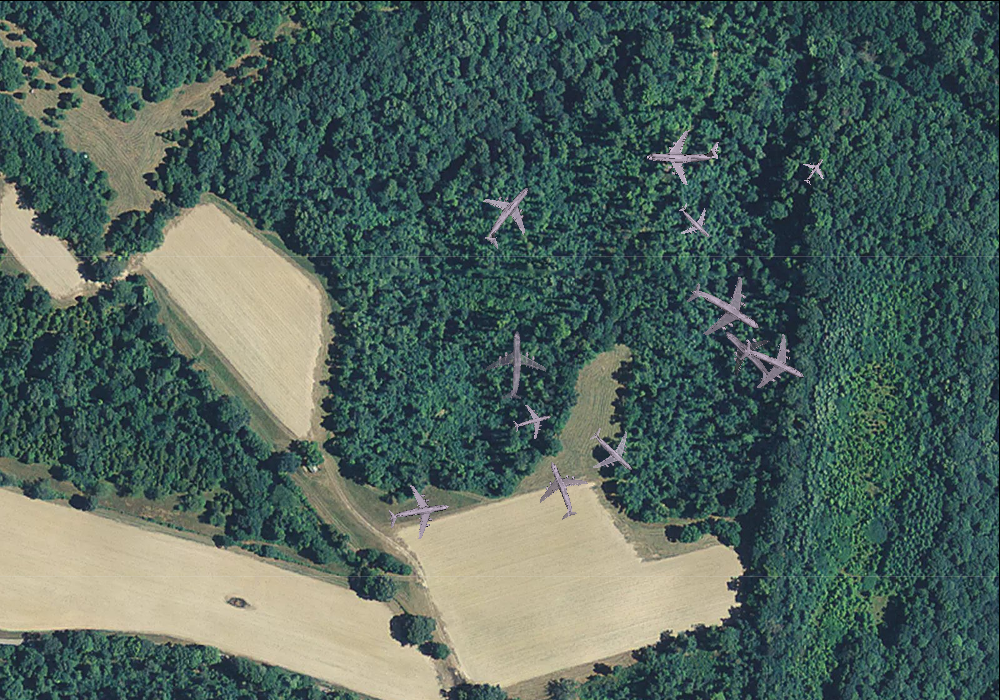plane: (673, 257, 777, 360), (463, 169, 554, 261), (703, 312, 793, 402), (729, 320, 817, 406), (523, 452, 598, 528), (575, 414, 649, 488), (645, 120, 721, 188), (480, 330, 548, 401), (383, 479, 453, 546), (667, 193, 724, 250), (509, 399, 555, 444), (795, 150, 834, 190)
